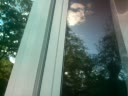window: (0, 0, 47, 96), (63, 35, 92, 62), (64, 1, 82, 8), (117, 42, 128, 52), (116, 14, 125, 22)
